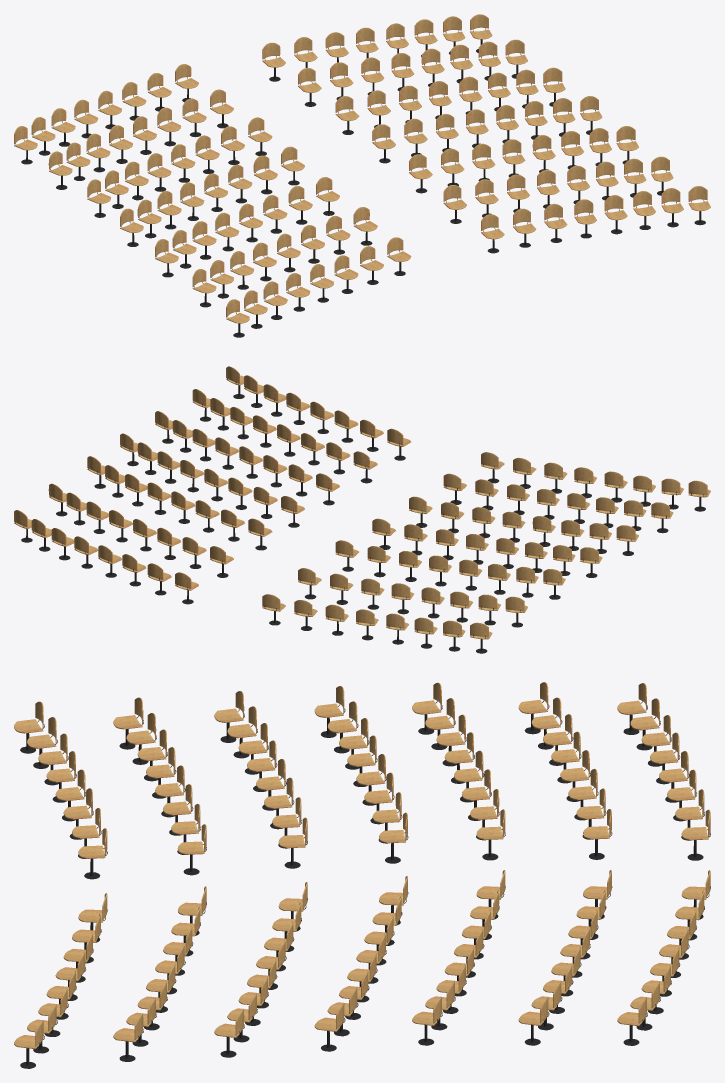
Rendered from chairs.fbx.
3 renders of one model, top to bottom at view 1: azimuth 30°, elevation 25°; view 2: azimuth 150°, elevation 25°; view 3: azimuth 270°, elevation 25°, orthographic. The views are drawn at different scales.
Visible parts, largest first — view 1: chairs.105, chairs.112, chairs.093; view 2: no part large enough to name; view 3: chairs.010, chairs.018, chairs.034, chairs.009, chairs.050, chairs.042, chairs.026, chairs.041, chairs.002, chairs.043, chairs.027, chairs.051 (+5 smaller).
Boxes of the visible parts, x1=… form: chairs.105: x1=574, y1=199, x2=596, y2=238; chairs.112: x1=604, y1=195, x2=627, y2=234; chairs.093: x1=688, y1=186, x2=710, y2=225; chairs.010: x1=113, y1=697, x2=143, y2=749; chairs.018: x1=214, y1=691, x2=244, y2=742; chairs.034: x1=412, y1=682, x2=442, y2=734; chairs.009: x1=14, y1=701, x2=44, y2=753; chairs.050: x1=617, y1=683, x2=647, y2=734; chairs.042: x1=518, y1=682, x2=549, y2=734; chairs.026: x1=314, y1=686, x2=345, y2=737; chairs.041: x1=476, y1=809, x2=505, y2=860; chairs.002: x1=78, y1=828, x2=107, y2=879; chairs.043: x1=531, y1=697, x2=562, y2=749; chairs.027: x1=327, y1=701, x2=358, y2=753; chairs.051: x1=630, y1=698, x2=660, y2=750.
Bounding box in the file's own units: 1966 × 187 × 1760.
